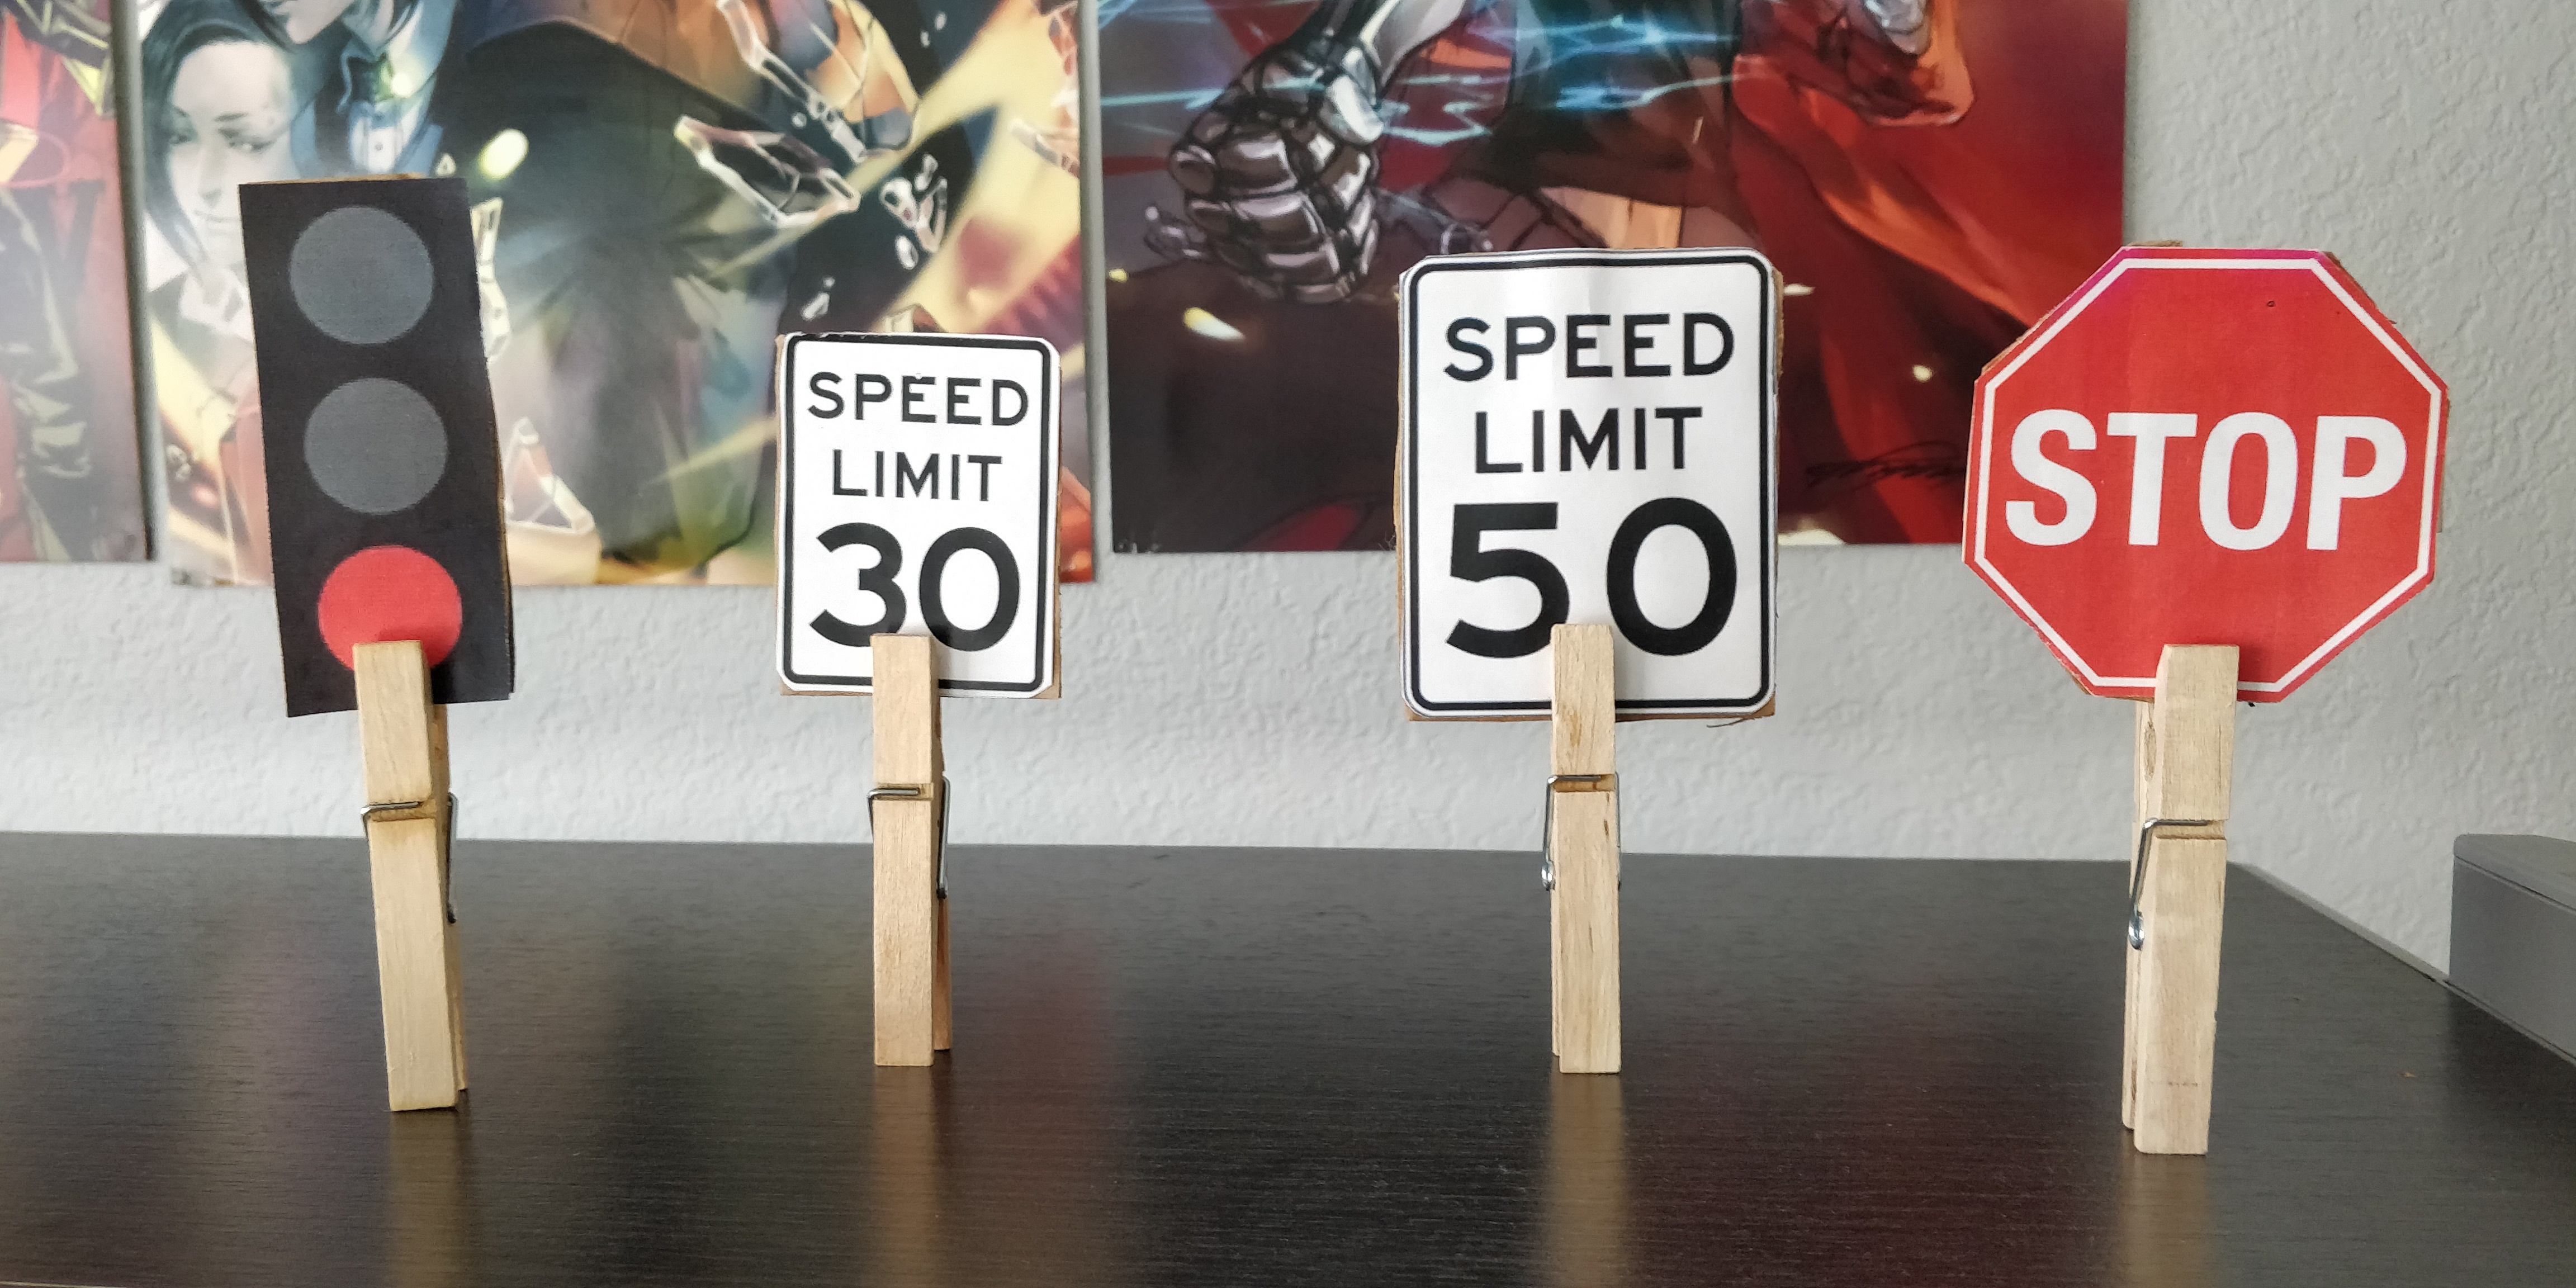Speed Limit 30: (775, 333, 1058, 705)
Speed Limit 50: (1395, 258, 1781, 723)
Stop Sign: (1970, 246, 2445, 705)
red light: (237, 186, 516, 715)
